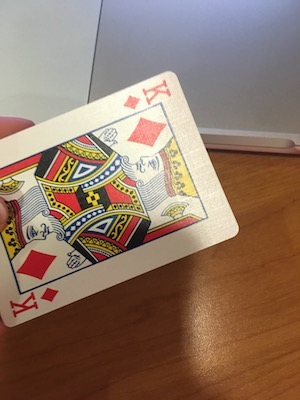KingOfDiamonds: (1, 68, 244, 332)
